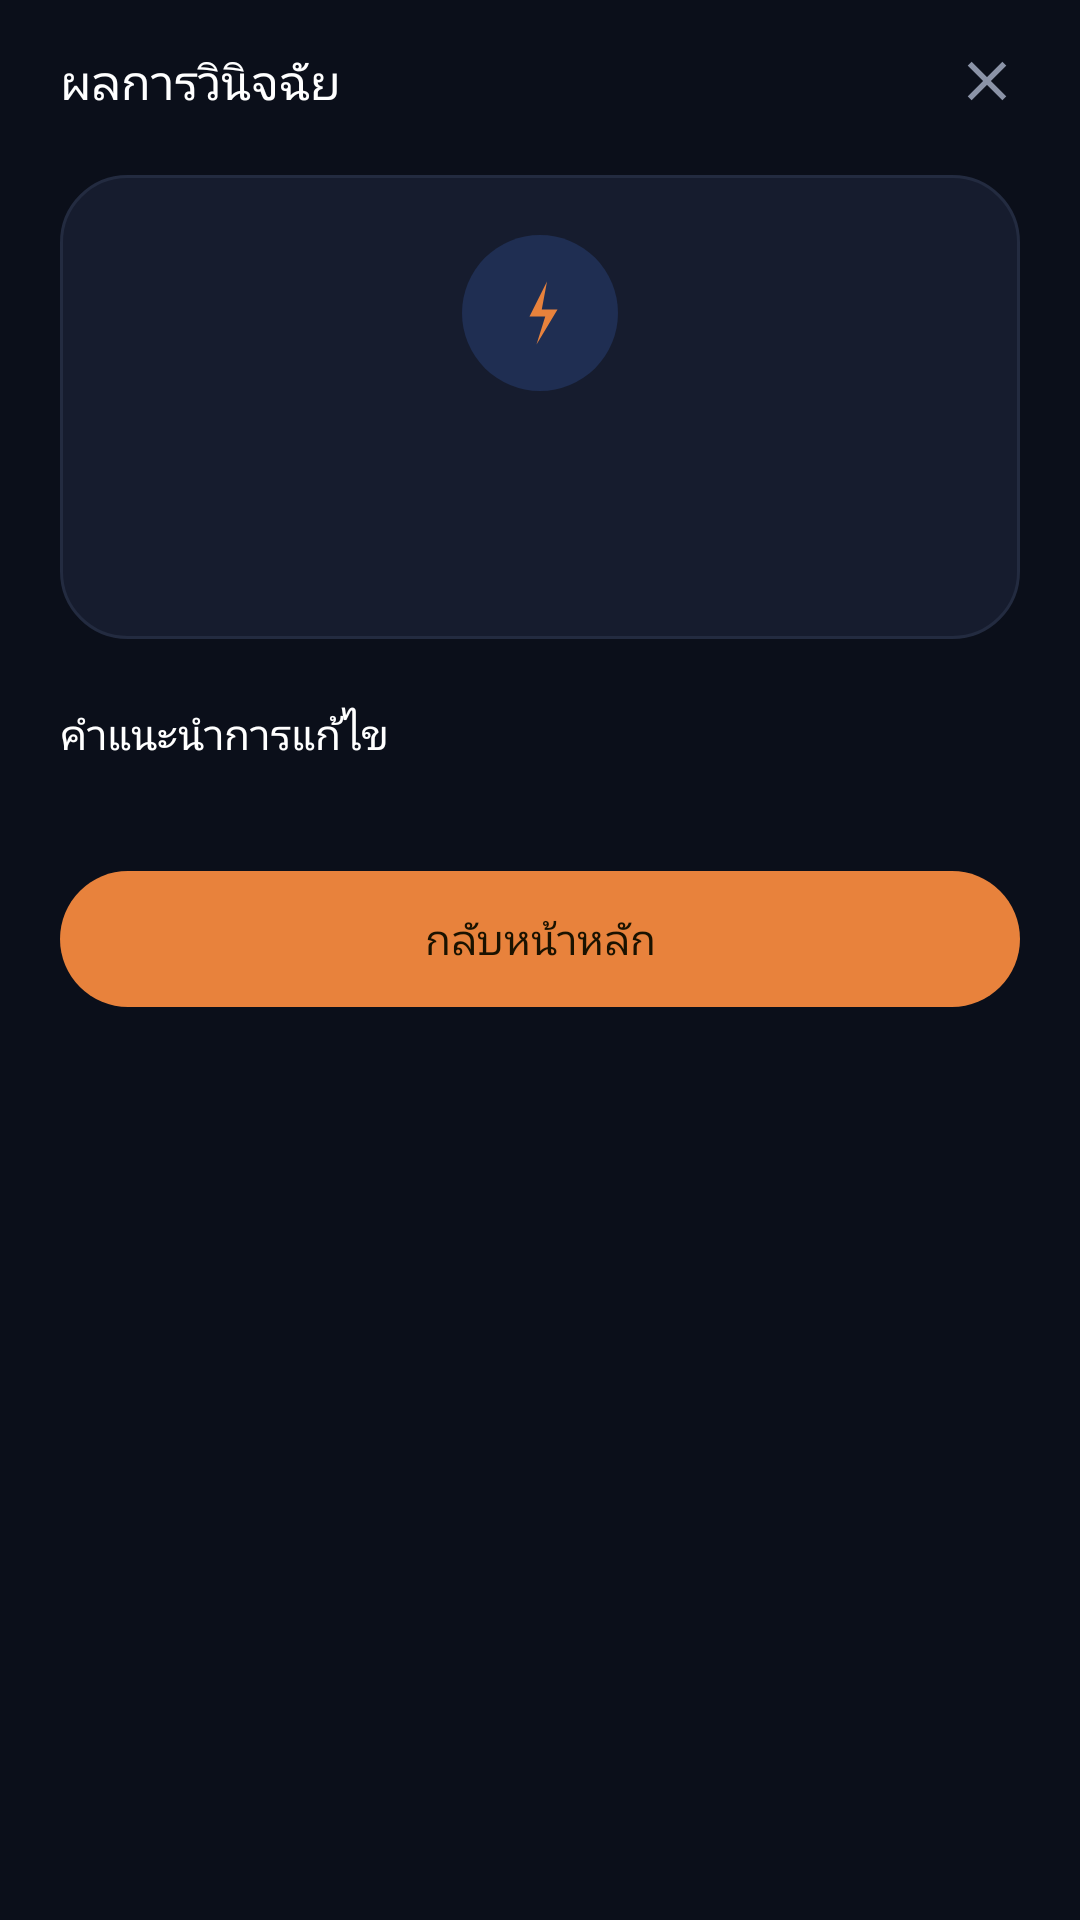

Icons on this 1080*1920 Android screen, each with its box as {"x1": x1, "y1": y1, "x2": x2, "y2": y2}:
bolt: {"x1": 462, "y1": 235, "x2": 618, "y2": 391}
close: {"x1": 968, "y1": 62, "x2": 1006, "y2": 100}
